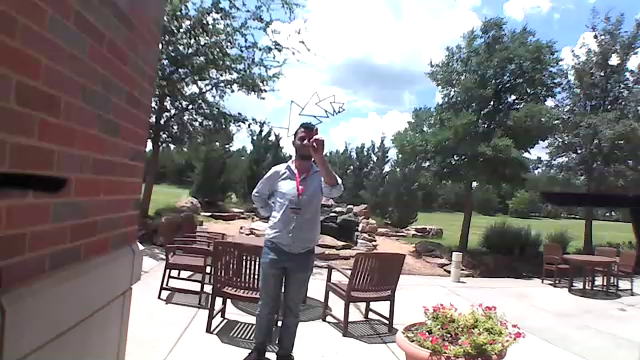up: (306, 123, 326, 160)
